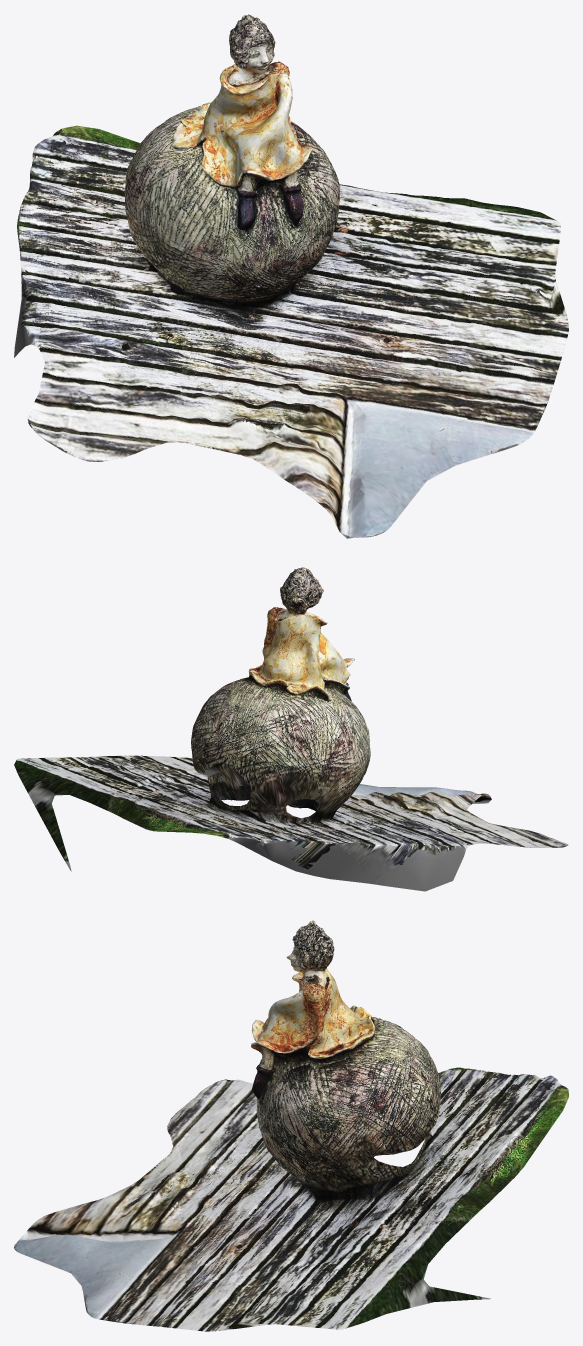
Rendered from goldenGirlOnBall - kopie.obj.
3 renders of one model, top to bottom at view 1: azimuth 30°, elevation 25°; view 2: azimuth 150°, elevation 25°; view 3: azimuth 270°, elevation 25°, orthographic. The views are drawn at different scales.
Visible parts, largest first — view 1: goldenGirlOnBall; view 2: goldenGirlOnBall; view 3: goldenGirlOnBall.
Part boxes in pixels (x1=…): goldenGirlOnBall: x1=14, y1=14, x2=568, y2=538; goldenGirlOnBall: x1=14, y1=567, x2=568, y2=891; goldenGirlOnBall: x1=14, y1=920, x2=568, y2=1331.
Size of the model in its own units: 27.3 by 17.01 by 24.84.
2 materials, 1 textured.
